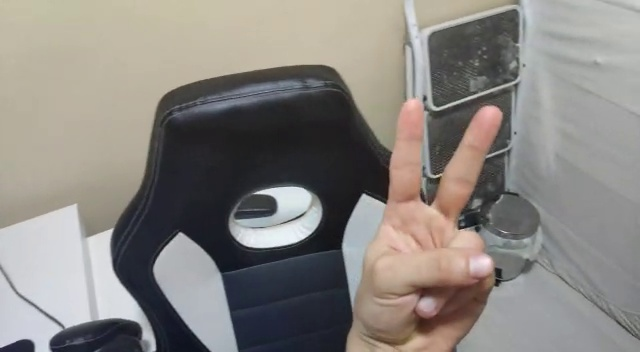Peace: (344, 98, 506, 350)
